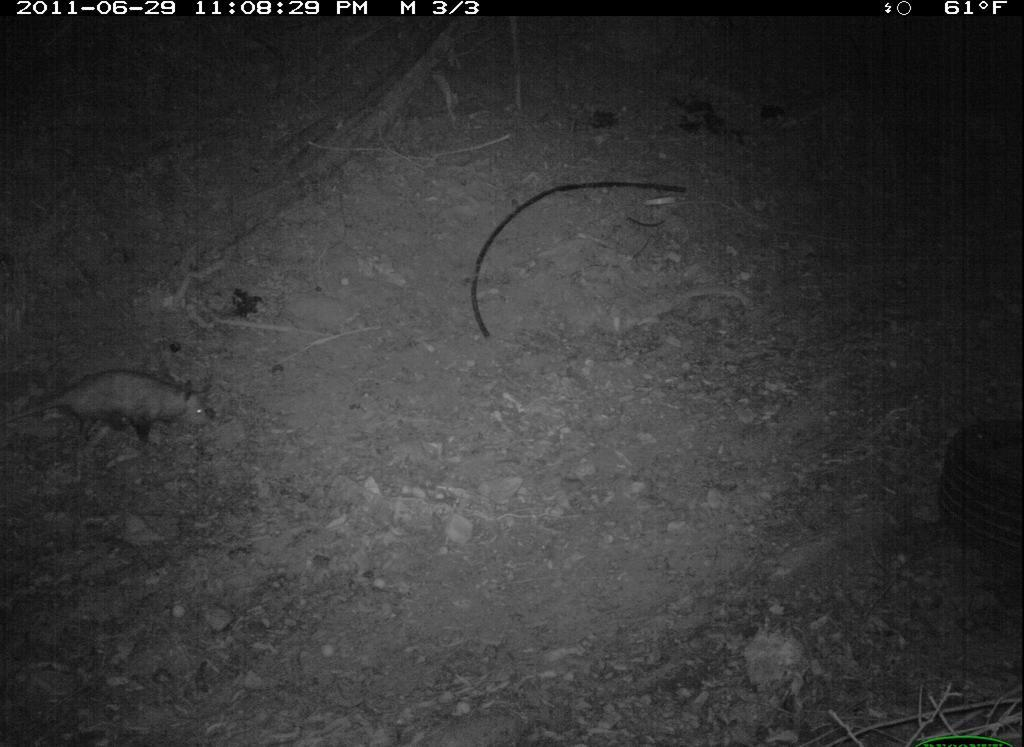opossum: (8, 372, 221, 450)
